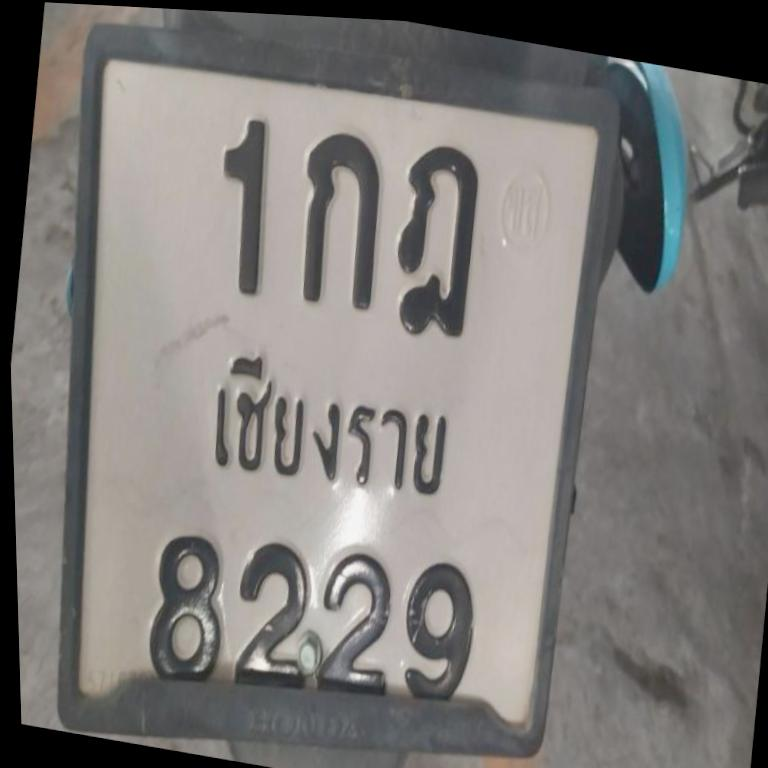license plate: (56, 19, 624, 756)
